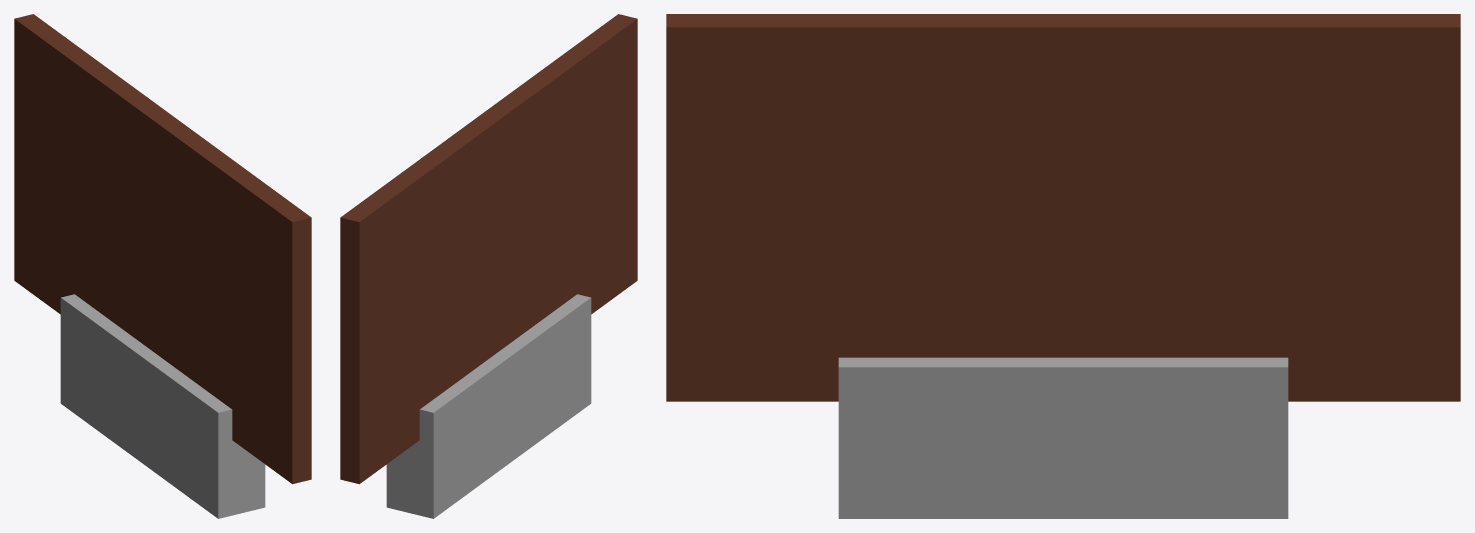
The model's file is Television.fbx.
3 renders of one model, left to right at view 1: azimuth 30°, elevation 25°; view 2: azimuth 150°, elevation 25°; view 3: azimuth 270°, elevation 25°, orthographic. The views are drawn at different scales.
Visible parts, largest first — view 1: TV; view 2: TV; view 3: TV.
Part boxes in pixels (box(x1,y1,x2,y2)): TV: box(14, 14, 311, 518); TV: box(340, 14, 637, 518); TV: box(666, 14, 1460, 518).
Size of the model in its own units: 0.4786 by 3.3 by 4.92.
